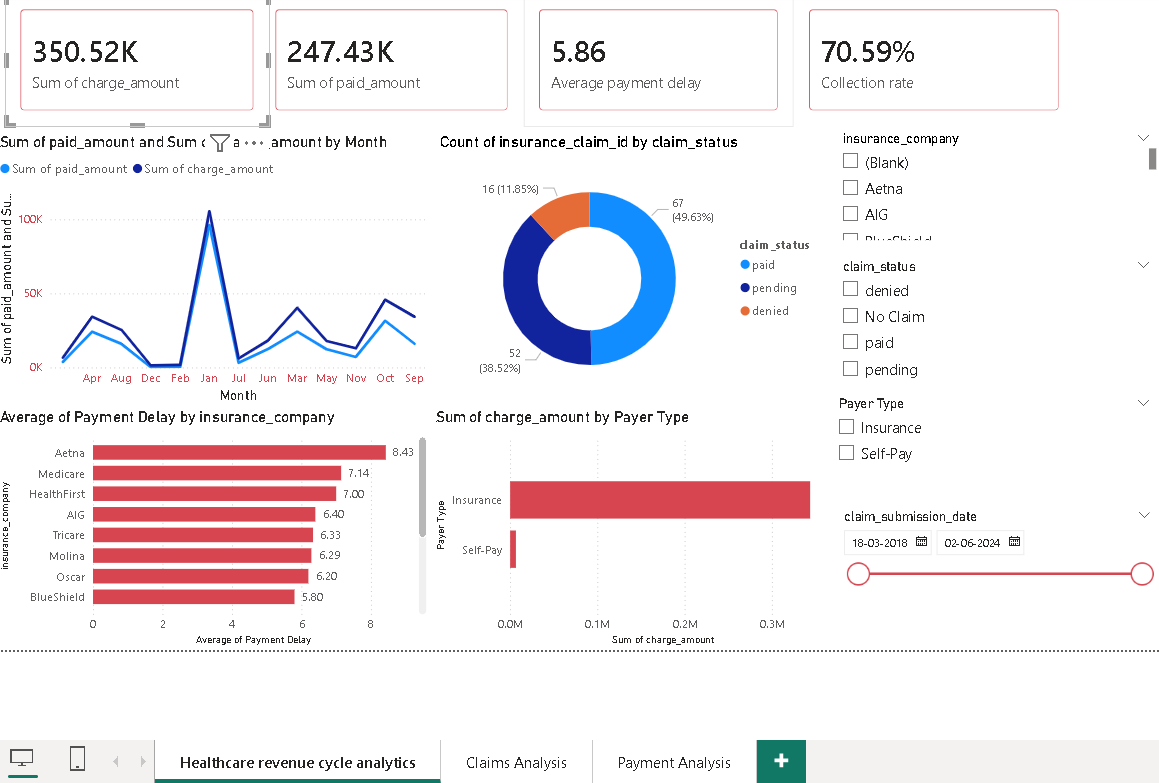

What the dashboard file says about the page in this screenshot:
{"tool":"powerbi","page":{"name":"Healthcare revenue cycle analytics","canvas":[1280,720],"ordinal":0},"visuals":[{"type":"cardVisual","fields":{"Data":["Sum(Data.charge_amount)"]},"box":[11,0,290.9,145.5],"z":0},{"type":"cardVisual","fields":{"Data":["Sum(Data.paid_amount)"]},"box":[290.9,0,289.5,145.5],"z":1000},{"type":"cardVisual","fields":{"Data":["Data.Average payment delay"]},"box":[580.4,0,296.4,145.5],"z":2000},{"type":"cardVisual","fields":{"Data":["Data.Collection rate"]},"box":[876.8,0,308.7,145.5],"z":3000},{"type":"donutChart","fields":{"Category":["Data.claim_status"],"Y":["CountNonNull(Data.insurance_claim_id)"]},"box":[482.9,152.9,431.4,301.4],"z":4000},{"type":"lineChart","fields":{"Y":["Sum(Data.paid_amount)","Sum(Data.charge_amount)"],"Category":["Data.claim_submission_date Hierarchy.Month","Data.claim_submission_date Hierarchy.YEAR"]},"box":[0,152.9,478.6,301.4],"z":5000},{"type":"barChart","fields":{"Category":["Data.Payer Type"],"Y":["Sum(Data.charge_amount)"]},"box":[478.6,454.3,440,265.7],"z":6000},{"type":"barChart","fields":{"Category":["Data.insurance_company"],"Y":["Avg(Data.Payment Delay)"]},"box":[0,454.3,478.6,265.7],"z":7000},{"type":"slicer","fields":{"Values":["Data.insurance_company"]},"box":[918.6,145.7,361.4,130],"z":8000},{"type":"slicer","fields":{"Values":["Data.claim_status"]},"box":[918.6,285.7,361.4,150],"z":9000},{"type":"slicer","fields":{"Values":["Data.Payer Type"]},"box":[914.3,435.7,365.7,124.3],"z":10000},{"type":"slicer","fields":{"Values":["Data.claim_submission_date"]},"box":[919,560,361,160],"z":11000}]}

Visuals, with their boxes on the page's 1280x720 design canvas (x1, y1, x2, y2). These are canvas units, not pixel positions in the 1159x783 screenshot, which may show the page scaled, cropped or inside an application window:
cardVisual - Sum(Data.charge_amount): pyautogui.locateOnScreen(11, 0, 302, 146)
cardVisual - Sum(Data.paid_amount): pyautogui.locateOnScreen(291, 0, 580, 146)
cardVisual - Data.Average payment delay: pyautogui.locateOnScreen(580, 0, 877, 146)
cardVisual - Data.Collection rate: pyautogui.locateOnScreen(877, 0, 1186, 146)
donutChart - Data.claim_status x CountNonNull(Data.insurance_claim_id): pyautogui.locateOnScreen(483, 153, 914, 454)
lineChart - Sum(Data.paid_amount) x Sum(Data.charge_amount): pyautogui.locateOnScreen(0, 153, 479, 454)
barChart - Data.Payer Type x Sum(Data.charge_amount): pyautogui.locateOnScreen(479, 454, 919, 720)
barChart - Data.insurance_company x Avg(Data.Payment Delay): pyautogui.locateOnScreen(0, 454, 479, 720)
slicer - Data.insurance_company: pyautogui.locateOnScreen(919, 146, 1280, 276)
slicer - Data.claim_status: pyautogui.locateOnScreen(919, 286, 1280, 436)
slicer - Data.Payer Type: pyautogui.locateOnScreen(914, 436, 1280, 560)
slicer - Data.claim_submission_date: pyautogui.locateOnScreen(919, 560, 1280, 720)
